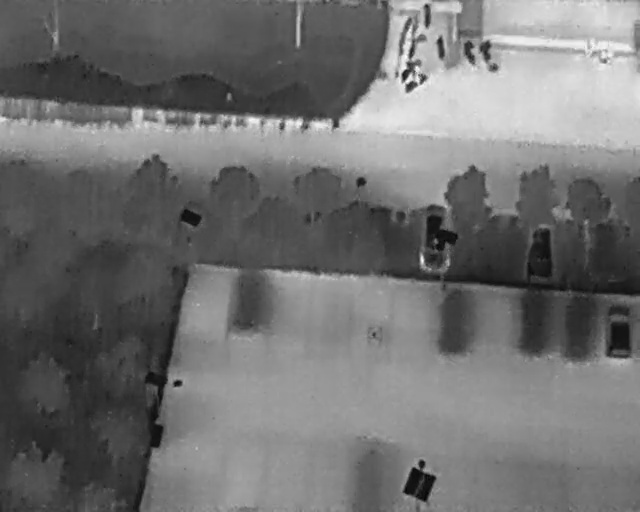Bicycle: (401, 66, 431, 97), (393, 54, 421, 87), (476, 37, 496, 65), (460, 38, 480, 66), (434, 33, 448, 62), (420, 1, 434, 30), (409, 12, 421, 36), (407, 36, 419, 58)
Car: (582, 212, 624, 280), (418, 203, 455, 273), (522, 219, 556, 286), (603, 300, 633, 360)
Person: (582, 35, 598, 60), (597, 49, 609, 64), (605, 50, 615, 63)
